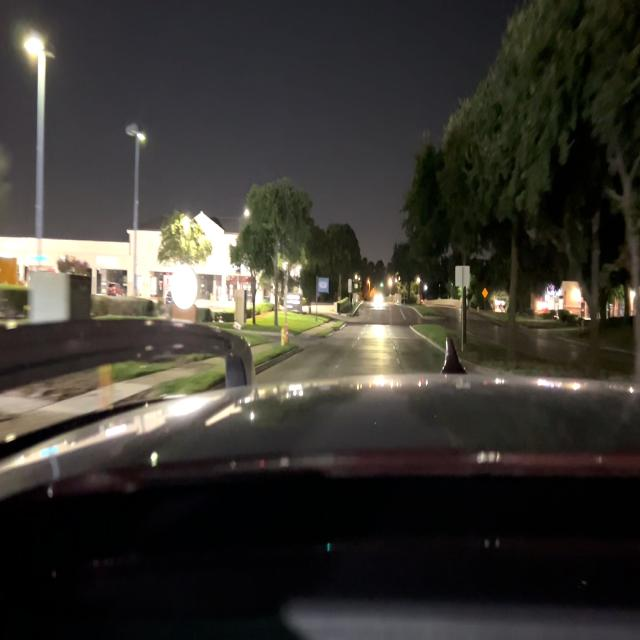back-of-sign: (456, 264, 471, 288)
